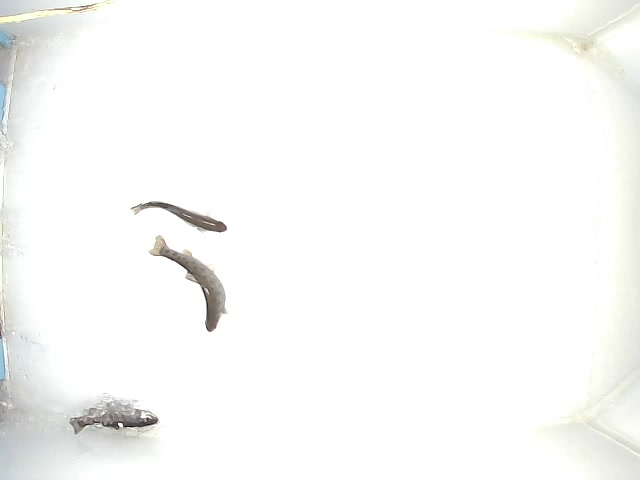fish: (147, 234, 229, 335), (128, 198, 229, 233), (68, 401, 158, 438)
